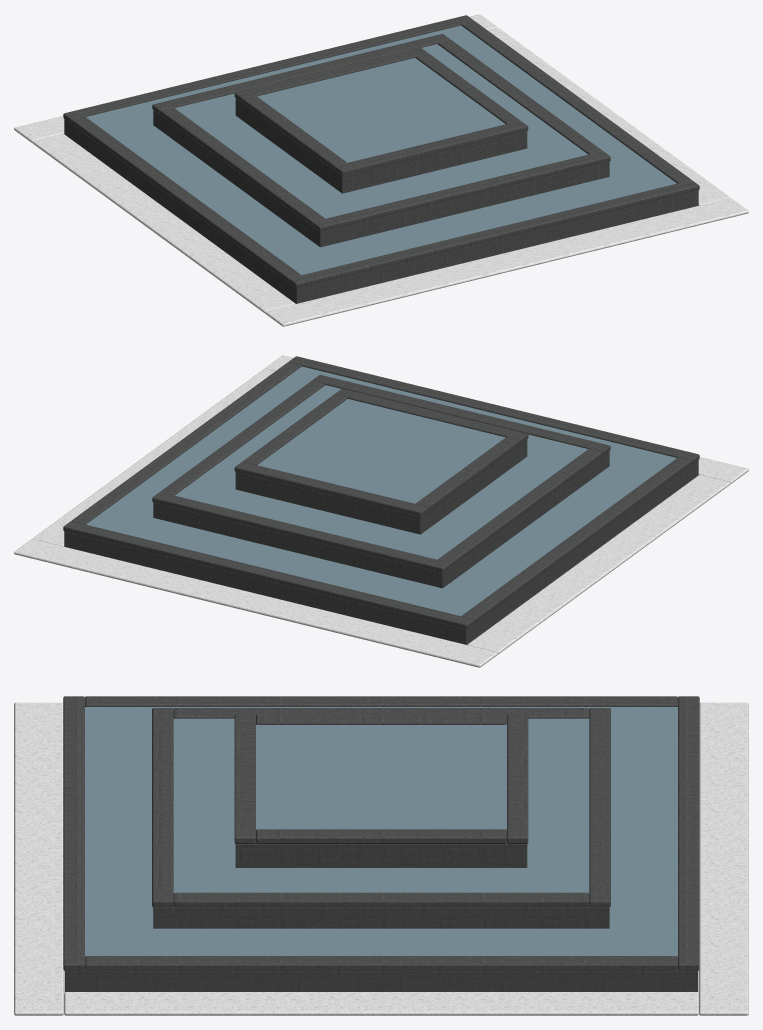
The model's file is fountain.glb.
3 views of the same model, one above another, from view 1: azimuth 30°, elevation 25°; view 2: azimuth 150°, elevation 25°; view 3: azimuth 270°, elevation 25° (orthographic). The views are drawn at different scales.
Visible parts, largest first — view 1: fountain, water_0, water_2, water_1; view 2: fountain, water_0, water_2, water_1; view 3: fountain, water_0, water_1, water_2.
Part boxes in pixels (x1,y1,x2,y2): fountain: (14,14,748,326); water_0: (86,25,676,275); water_2: (257,58,505,162); water_1: (175,44,587,218); fountain: (14,355,748,667); water_0: (86,366,676,616); water_2: (257,399,505,503); water_1: (175,385,587,559); fountain: (14,696,748,1015); water_0: (85,707,677,956); water_1: (173,718,589,893); water_2: (256,724,506,829).
Bounding box in the file's own units: 11.6 × 1.49 × 11.6.
Materials: 6 (3 with a texture image).
